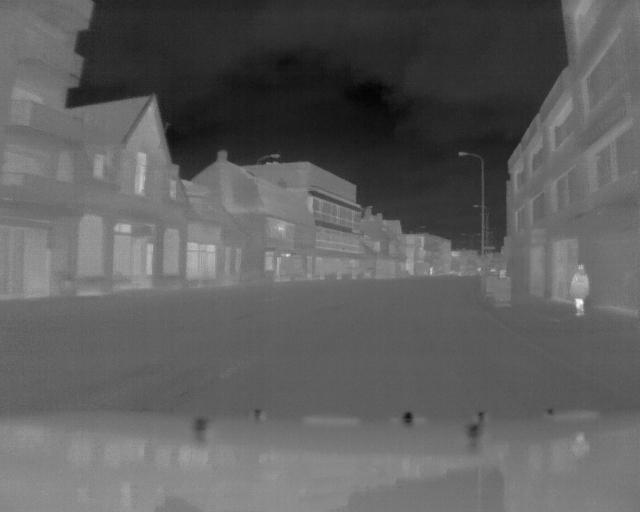person: (569, 263, 591, 317)
